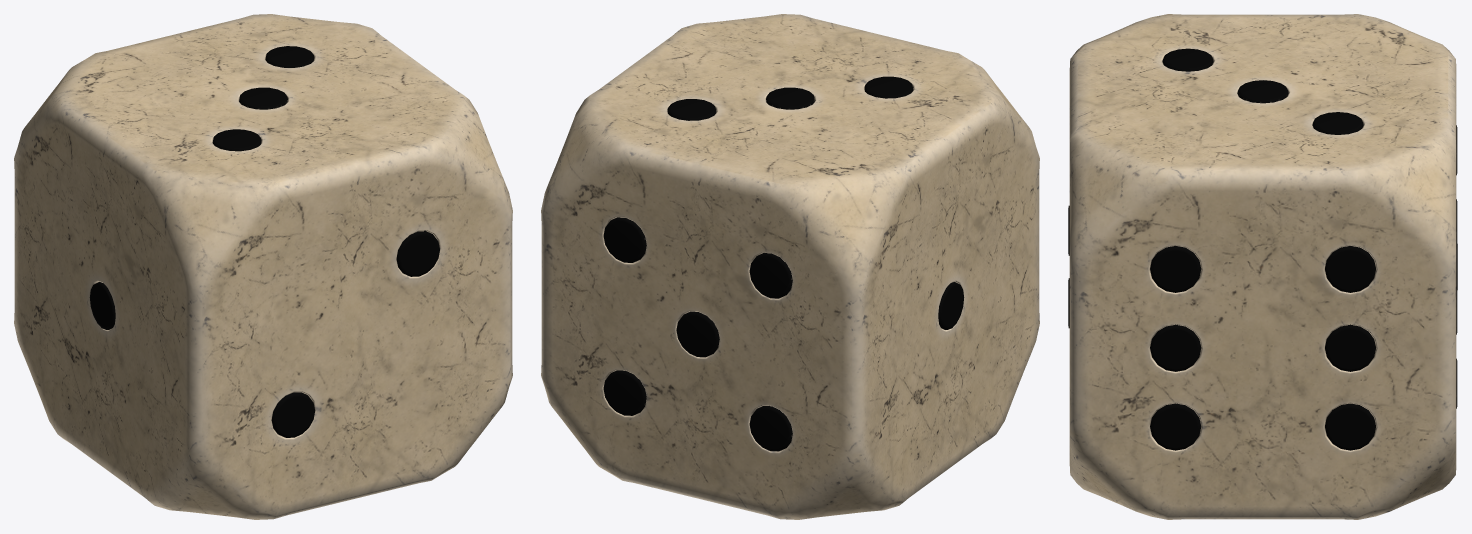
The model's file is dice.glb.
The picture shows the model from 3 angles, left to right: view 1: azimuth 30°, elevation 25°; view 2: azimuth 150°, elevation 25°; view 3: azimuth 270°, elevation 25°; orthographic projection. The views are drawn at different scales.
Parts seen in each view (by area): view 1: dice_low; view 2: dice_low; view 3: dice_low.
Part boxes in pixels (x1,y1,x2,y2): dice_low: (14,14,512,519); dice_low: (541,14,1039,519); dice_low: (1068,14,1457,519).
Bounding box in the file's own units: 0.0145 × 0.0145 × 0.0145.
Materials: 1 (1 with a texture image).
